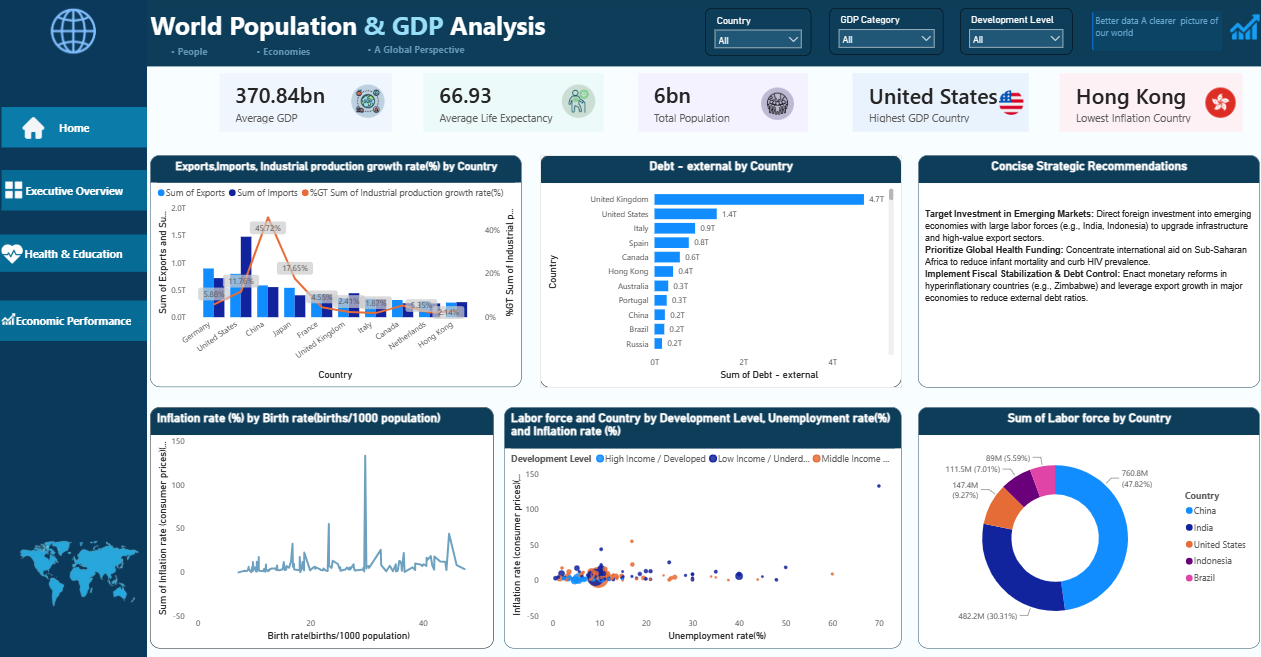

What the dashboard file says about the page in this screenshot:
{"tool":"powerbi","page":{"name":"Economic Performance Analysis","canvas":[1900,1000],"ordinal":3},"visuals":[{"type":"lineChart","title":" Inflation rate (%) by Birth rate(births/1000 population)","fields":{"Category":["Country Data Comparison.Birth rate(births/1000 population)"],"Y":["Sum(Country Data Comparison.Inflation rate (consumer prices)(%))"]},"box":[224.9,616.2,515,362.1],"z":0},{"type":"donutChart","fields":{"Category":["Country Data Comparison.Country"],"Y":["Sum(Country Data Comparison.Labor force)"]},"box":[1376.3,616.2,512.8,362.1],"z":1000},{"type":"lineClusteredColumnComboChart","title":"Exports,Imports, Industrial production growth rate(%) by Country","fields":{"Category":["Country Data Comparison.Country"],"Y":["Sum(Country Data Comparison.Exports)","Sum(Country Data Comparison.Imports)"],"Y2":["Sum(Country Data Comparison.Industrial production growth rate(%))"]},"box":[224,238.6,557.6,348.2],"z":2000},{"type":"clusteredBarChart","title":" Debt - external by Country","fields":{"Category":["Country Data Comparison.Country"],"Y":["Sum(Country Data Comparison.Debt - external)"]},"box":[809.6,238.4,542,348.6],"z":3000},{"type":"scatterChart","title":"Labor force and Country by Development Level, Unemployment rate(%) and Inflation rate (%)","fields":{"Series":["Country Data Comparison.Development Level"],"Size":["Sum(Country Data Comparison.Labor force)"],"X":["Country Data Comparison.Unemployment rate(%)"],"Y":["Country Data Comparison.Inflation rate (consumer prices)(%)"]},"box":[755.6,616.2,596,362.1],"z":4000},{"type":"textbox","title":"Concise Strategic Recommendations","box":[1376.3,238.4,512.8,348.6],"z":5000},{"type":"shape","box":[0,2.2,220.4,998.5],"z":6000},{"type":"shape","box":[220.4,2.2,1679.9,103.5],"z":7000},{"type":"image","box":[0,0,220.3,105.6],"z":8000},{"type":"textbox","box":[220.4,13.5,658.6,76.4],"z":9000},{"type":"textbox","box":[1637.5,22.5,195,60],"z":10000},{"type":"shape","box":[1546.4,24.7,182.1,56.2],"z":11000},{"type":"image","box":[1844.4,11.1,45,69.7],"z":12000},{"type":"actionButton","box":[2.2,260.9,218.1,60.7],"z":13000},{"type":"actionButton","box":[0,357.6,220.4,56.2],"z":14000},{"type":"actionButton","box":[0,456.5,220.4,60.7],"z":15000},{"type":"textbox","box":[240.6,67.5,110.1,31.5],"z":16000},{"type":"textbox","box":[368.8,67.5,148.3,29.2],"z":17000},{"type":"textbox","box":[535.2,65.2,204.5,42.7],"z":18000},{"type":"cardVisual","fields":{"Data":["Table Measure.Average GDP"]},"box":[323.7,110.1,269.7,98.9],"z":19000},{"type":"cardVisual","fields":{"Data":["Table Measure.Average Life Expectancy"]},"box":[629.3,110.1,281,98.9],"z":20000},{"type":"cardVisual","fields":{"Data":["Table Measure.Total Population"]},"box":[950.8,110.1,265.2,98.9],"z":21000},{"type":"cardVisual","fields":{"Data":["Table Measure.Highest GDP Country"]},"box":[1272.2,110.1,274.2,98.9],"z":22000},{"type":"cardVisual","fields":{"Data":["Table Measure.Lowest Inflation Country"]},"box":[1582.3,110.1,285.5,98.9],"z":23000},{"type":"slicer","fields":{"Values":["Country Data Comparison.Country"]},"box":[1056.4,18,159.6,71.9],"z":24000},{"type":"slicer","fields":{"Values":["Country Data Comparison.GDP Category "]},"box":[1242.9,18,170.8,69.7],"z":25000},{"type":"slicer","fields":{"Values":["Country Data Comparison.Development Level"]},"box":[1438.5,18,168.6,69.7],"z":26000},{"type":"image","box":[1497.3,121.8,36.4,76.4],"z":27000},{"type":"image","box":[1769.1,137.3,120,45],"z":28000},{"type":"image","box":[1136.2,137.5,60,48.8],"z":29000},{"type":"image","box":[840,133.3,52.2,50],"z":30000},{"type":"image","box":[516.7,133.3,68.9,50],"z":31000},{"type":"actionButton","box":[2.2,166.4,218.1,60.7],"z":32000},{"type":"image","box":[34.2,164.2,32.5,67.5],"z":33000},{"type":"image","box":[2.5,368.3,31.7,35.8],"z":34000},{"type":"image","box":[0,271.7,41.7,37.5],"z":35000},{"type":"image","box":[2.3,470.8,20.8,29.2],"z":36000},{"type":"image","box":[0,733.2,240.6,265.4],"z":36001}]}

Visuals, with their boxes on the page's 1900x1000 design canvas (x1, y1, x2, y2). These are canvas units, not pixel positions in the 1261x657 screenshot, which may show the page scaled, cropped or inside an application window:
" Inflation rate (%) by Birth rate(births/1000 population)" lineChart: (x1=225, y1=616, x2=740, y2=978)
donutChart - Country Data Comparison.Country x Sum(Country Data Comparison.Labor force): (x1=1376, y1=616, x2=1889, y2=978)
"Exports,Imports, Industrial production growth rate(%) by Country" lineClusteredColumnComboChart: (x1=224, y1=239, x2=782, y2=587)
" Debt - external by Country" clusteredBarChart: (x1=810, y1=238, x2=1352, y2=587)
"Labor force and Country by Development Level, Unemployment rate(%) and Inflation rate (%)" scatterChart: (x1=756, y1=616, x2=1352, y2=978)
"Concise Strategic Recommendations" textbox: (x1=1376, y1=238, x2=1889, y2=587)
shape: (x1=0, y1=2, x2=220, y2=1001)
shape: (x1=220, y1=2, x2=1900, y2=106)
image: (x1=0, y1=0, x2=220, y2=106)
textbox: (x1=220, y1=14, x2=879, y2=90)
textbox: (x1=1638, y1=22, x2=1832, y2=82)
shape: (x1=1546, y1=25, x2=1728, y2=81)
image: (x1=1844, y1=11, x2=1889, y2=81)
actionButton: (x1=2, y1=261, x2=220, y2=322)
actionButton: (x1=0, y1=358, x2=220, y2=414)
actionButton: (x1=0, y1=456, x2=220, y2=517)
textbox: (x1=241, y1=68, x2=351, y2=99)
textbox: (x1=369, y1=68, x2=517, y2=97)
textbox: (x1=535, y1=65, x2=740, y2=108)
cardVisual - Table Measure.Average GDP: (x1=324, y1=110, x2=593, y2=209)
cardVisual - Table Measure.Average Life Expectancy: (x1=629, y1=110, x2=910, y2=209)
cardVisual - Table Measure.Total Population: (x1=951, y1=110, x2=1216, y2=209)
cardVisual - Table Measure.Highest GDP Country: (x1=1272, y1=110, x2=1546, y2=209)
cardVisual - Table Measure.Lowest Inflation Country: (x1=1582, y1=110, x2=1868, y2=209)
slicer - Country Data Comparison.Country: (x1=1056, y1=18, x2=1216, y2=90)
slicer - Country Data Comparison.GDP Category : (x1=1243, y1=18, x2=1414, y2=88)
slicer - Country Data Comparison.Development Level: (x1=1438, y1=18, x2=1607, y2=88)
image: (x1=1497, y1=122, x2=1534, y2=198)
image: (x1=1769, y1=137, x2=1889, y2=182)
image: (x1=1136, y1=138, x2=1196, y2=186)
image: (x1=840, y1=133, x2=892, y2=183)
image: (x1=517, y1=133, x2=586, y2=183)
actionButton: (x1=2, y1=166, x2=220, y2=227)
image: (x1=34, y1=164, x2=67, y2=232)
image: (x1=2, y1=368, x2=34, y2=404)
image: (x1=0, y1=272, x2=42, y2=309)
image: (x1=2, y1=471, x2=23, y2=500)
image: (x1=0, y1=733, x2=241, y2=999)
